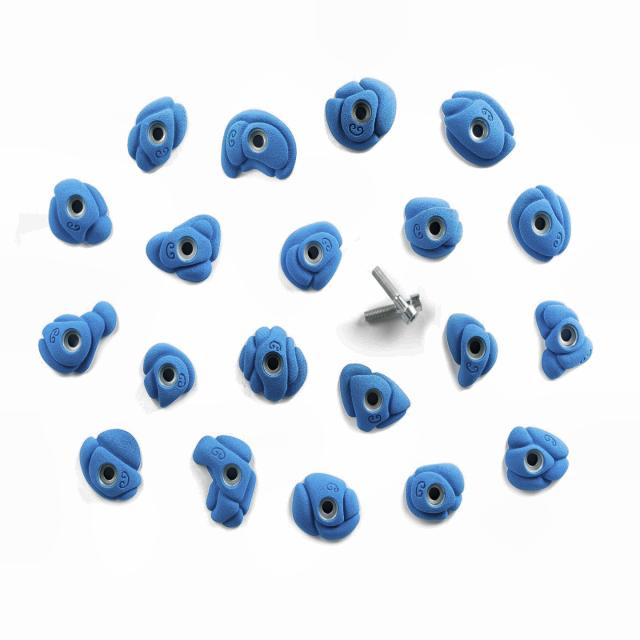Hold: (192, 436, 260, 528), (37, 299, 115, 379), (441, 88, 518, 167), (220, 110, 299, 186), (335, 361, 411, 437), (322, 77, 399, 151), (507, 182, 574, 266), (240, 325, 311, 403), (147, 210, 219, 284), (290, 470, 364, 541), (82, 422, 149, 499), (276, 216, 346, 287), (444, 306, 504, 388), (529, 303, 593, 379), (127, 93, 189, 170), (506, 425, 570, 491), (49, 180, 110, 245), (400, 194, 462, 256), (139, 335, 193, 405), (402, 466, 464, 521)
